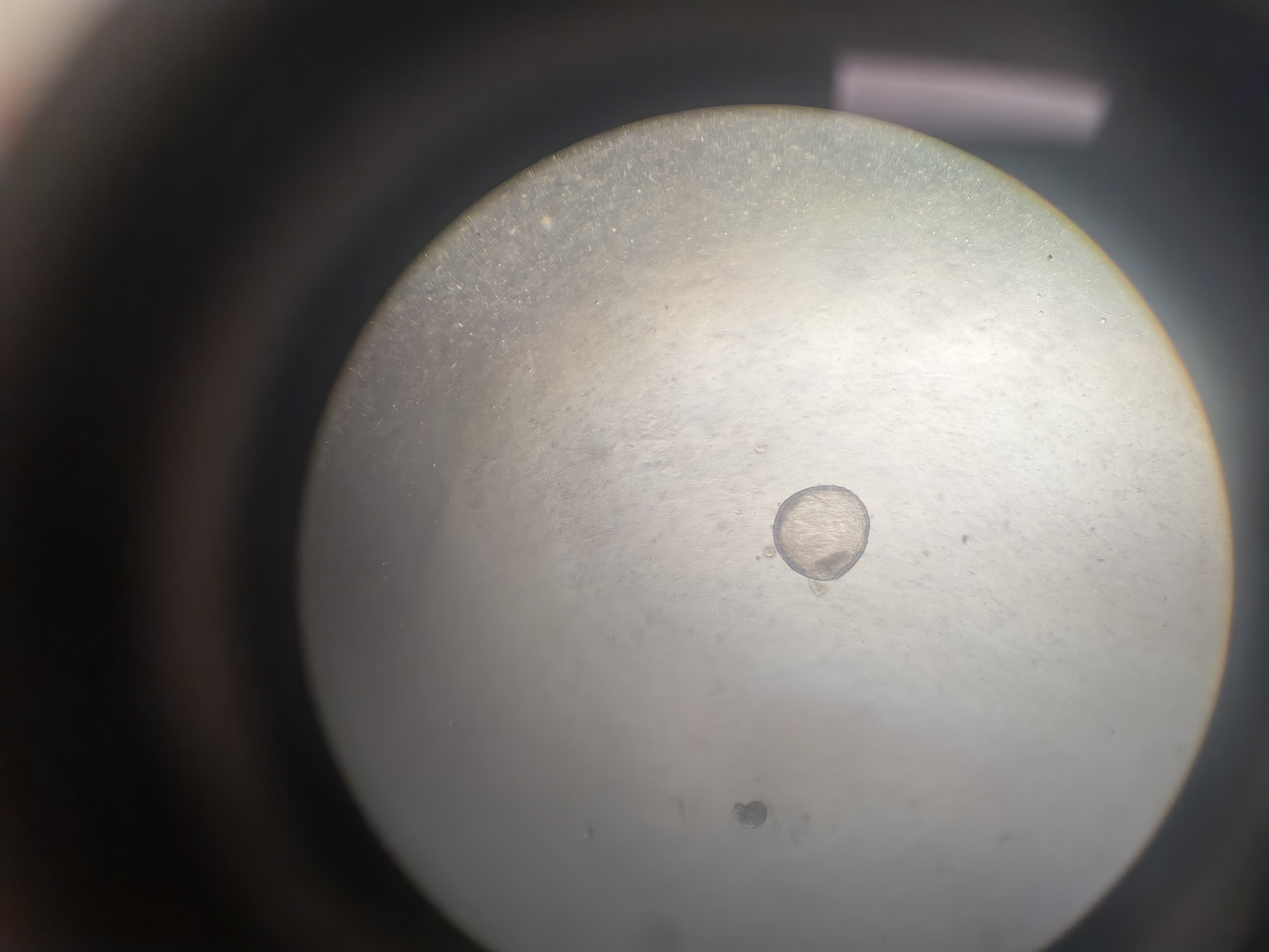organoid: (799, 478, 881, 557)
